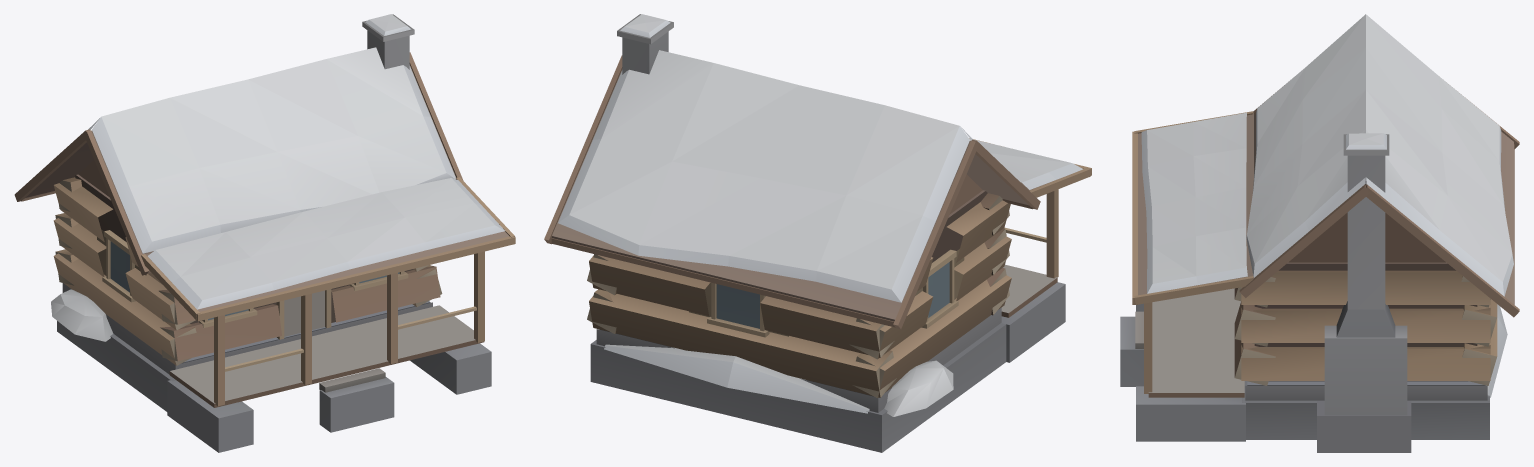
Rendered from cabin.lod1.glb.
The picture shows the model from 3 angles, left to right: view 1: azimuth 30°, elevation 25°; view 2: azimuth 150°, elevation 25°; view 3: azimuth 270°, elevation 25°; orthographic projection. The views are drawn at different scales.
Bounding box in the file's own units: 10.2 × 8.56 × 10.16.
